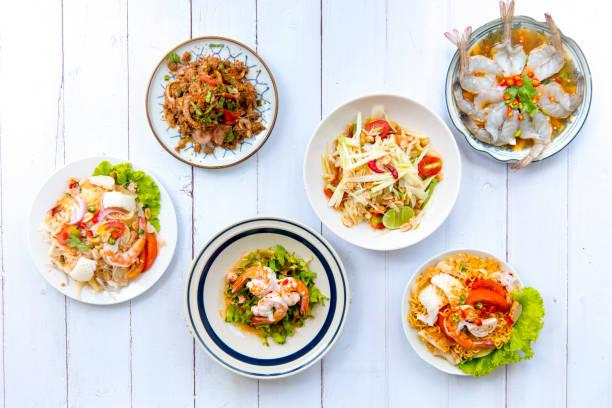Braised Crucian Carp: (184, 217, 346, 379), (302, 94, 458, 252), (26, 157, 178, 305), (443, 13, 590, 165), (144, 36, 276, 169), (400, 248, 532, 377)
